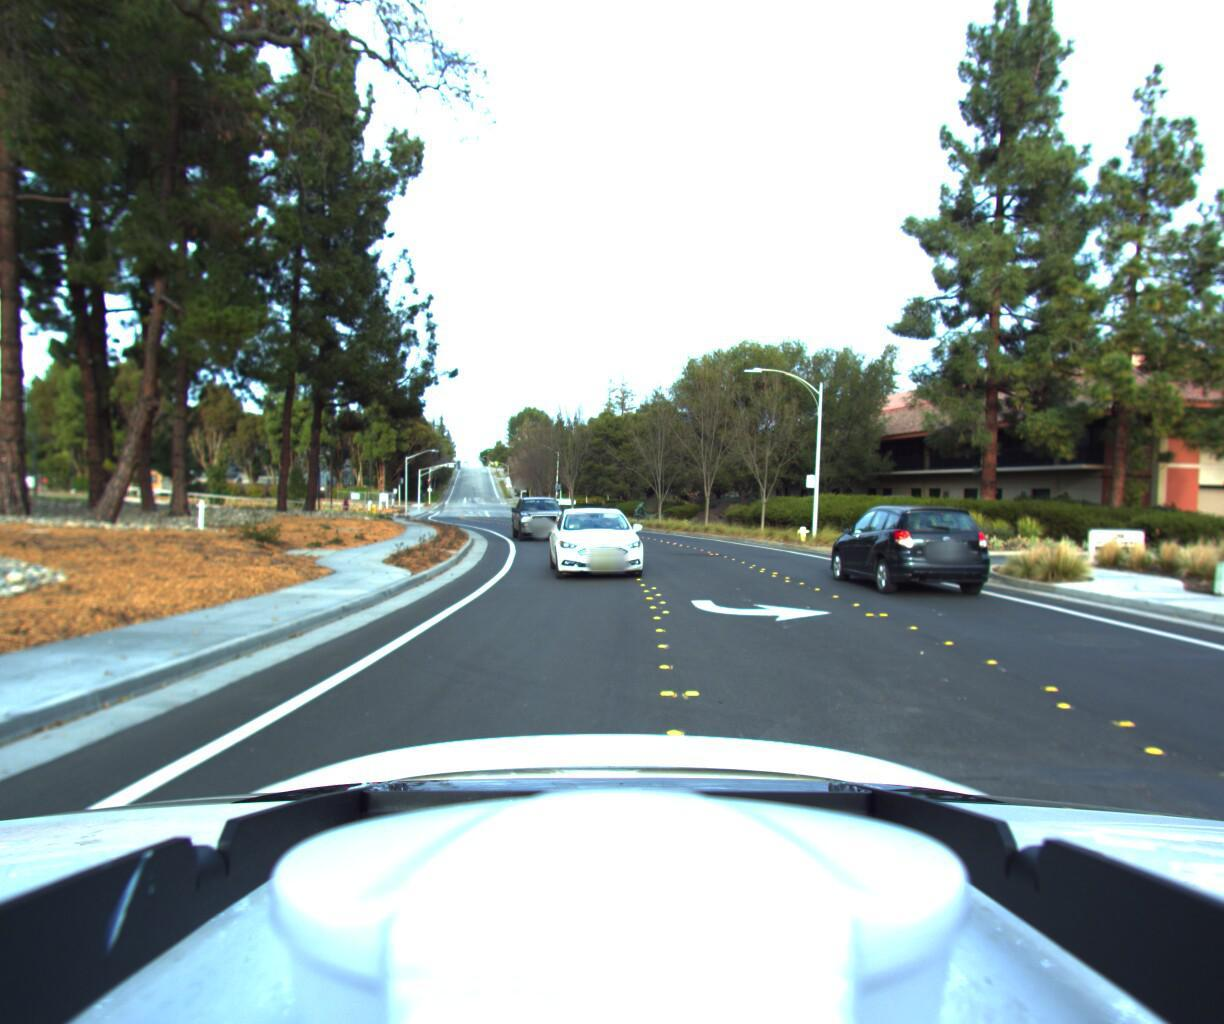car: (799, 494, 971, 595), (542, 501, 647, 585), (506, 491, 567, 543)
